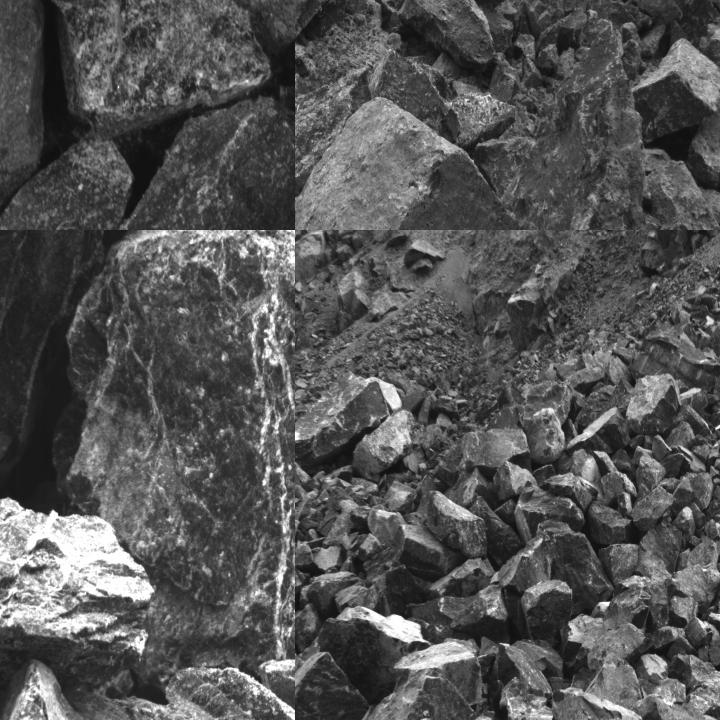stone: (65, 230, 294, 664), (474, 24, 672, 229), (31, 83, 294, 229), (0, 496, 156, 690), (51, 0, 270, 138), (295, 109, 520, 229), (0, 0, 66, 229), (372, 52, 514, 150), (0, 138, 134, 229), (295, 372, 399, 471), (295, 70, 370, 194), (633, 39, 719, 146), (399, 0, 495, 70), (355, 669, 478, 719), (411, 584, 510, 645), (641, 152, 719, 229), (362, 523, 462, 582), (434, 428, 532, 484), (295, 651, 370, 719), (514, 480, 585, 542), (352, 409, 414, 478), (426, 492, 488, 557), (520, 580, 574, 650), (625, 372, 681, 435), (363, 566, 432, 616), (535, 5, 606, 53), (587, 624, 654, 673), (585, 650, 640, 708), (688, 92, 719, 193), (665, 561, 719, 617), (568, 407, 630, 455), (498, 644, 554, 697), (551, 688, 644, 719), (427, 557, 494, 599), (635, 521, 682, 578), (519, 381, 571, 429), (523, 407, 565, 464), (539, 474, 599, 512), (629, 485, 676, 531), (604, 588, 652, 632), (512, 639, 564, 679), (586, 500, 632, 545), (576, 381, 615, 433), (492, 460, 538, 503), (672, 472, 714, 516), (598, 544, 638, 590), (295, 0, 339, 39), (520, 0, 565, 37), (696, 16, 719, 86), (368, 507, 408, 545), (636, 453, 666, 500), (673, 404, 713, 438), (600, 376, 634, 416), (295, 603, 322, 653), (601, 472, 636, 508), (490, 60, 518, 102), (631, 695, 680, 719), (485, 403, 526, 430), (383, 482, 416, 514), (671, 506, 696, 548), (604, 355, 634, 386), (614, 0, 668, 17), (670, 596, 698, 628), (295, 560, 311, 615), (665, 421, 696, 449), (552, 47, 574, 80), (680, 388, 708, 413), (613, 450, 636, 480), (514, 33, 537, 62), (522, 57, 542, 88), (686, 617, 706, 648), (535, 46, 558, 72), (559, 0, 592, 13)
